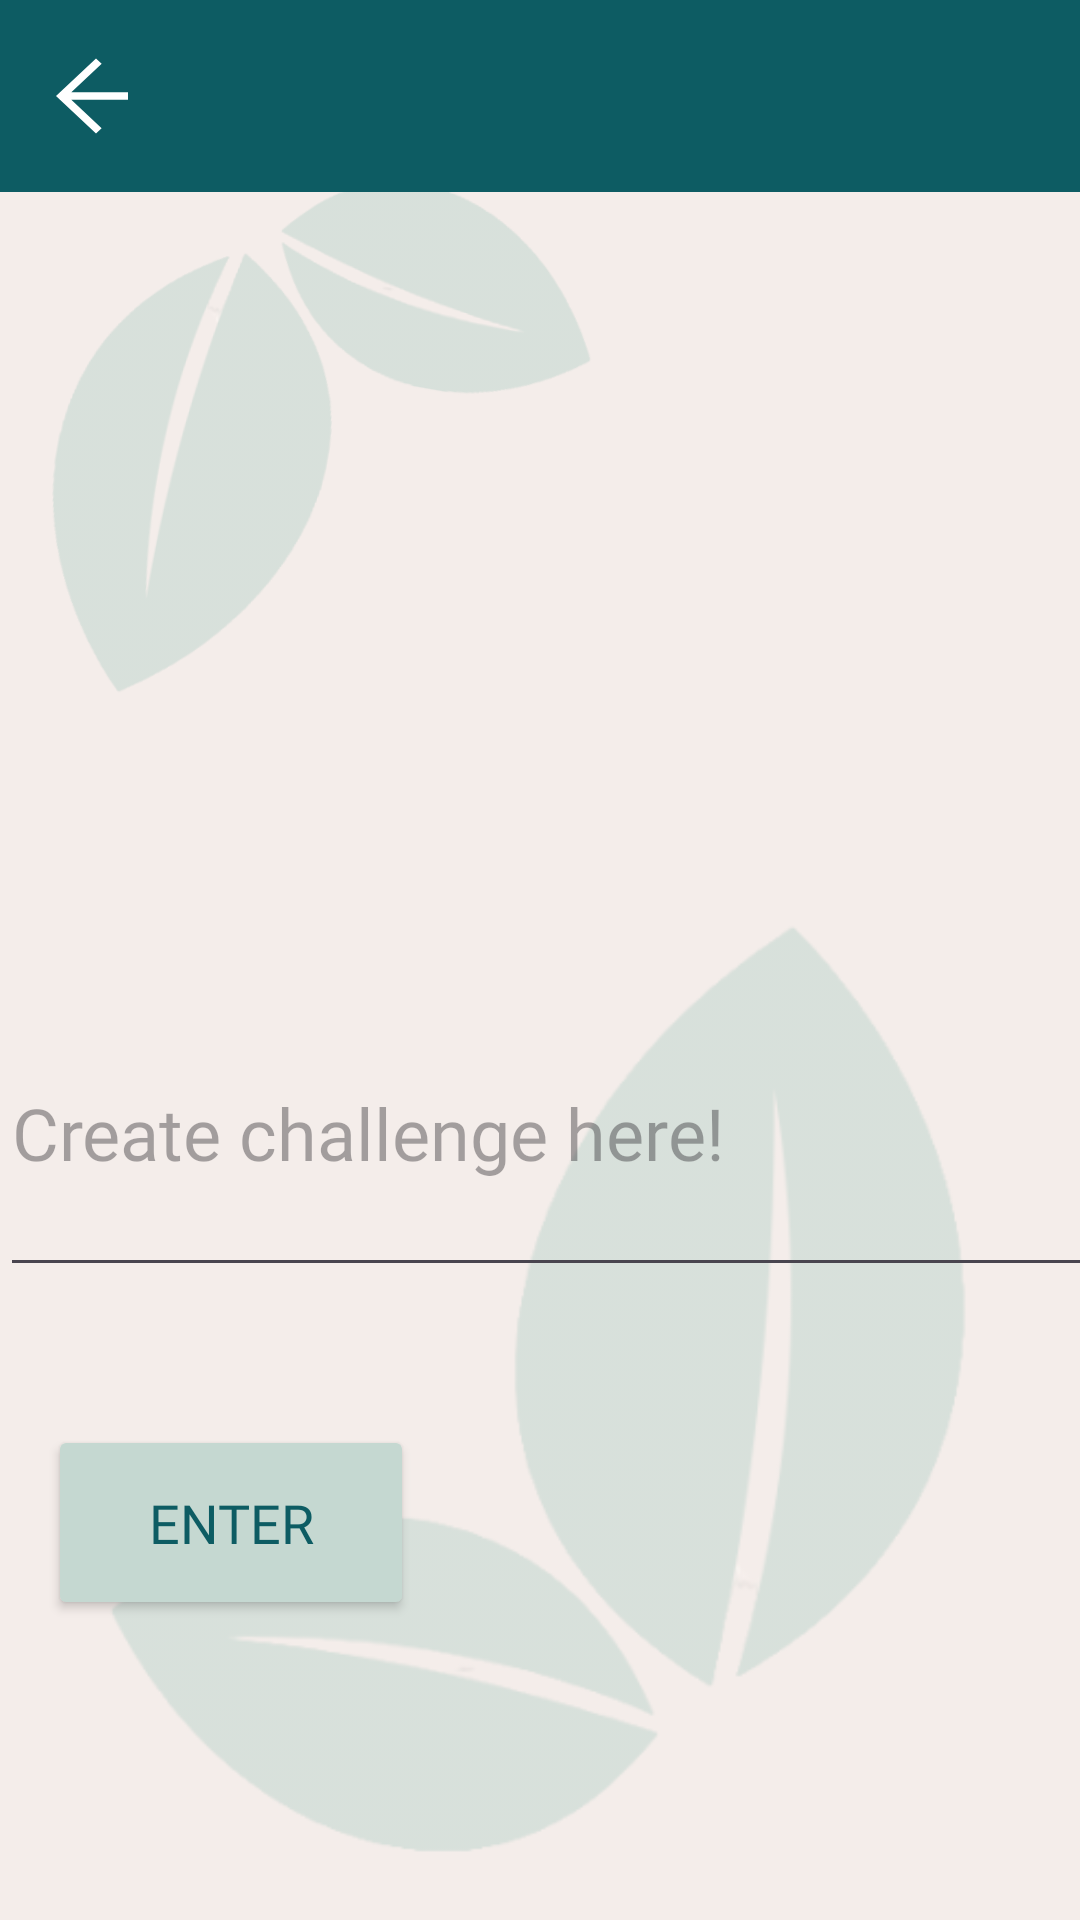

Named icons in this screenshot (1080×1920) and their bounding boxes, (x1, y1, x2, y2):
Back: (56, 58, 128, 134)
